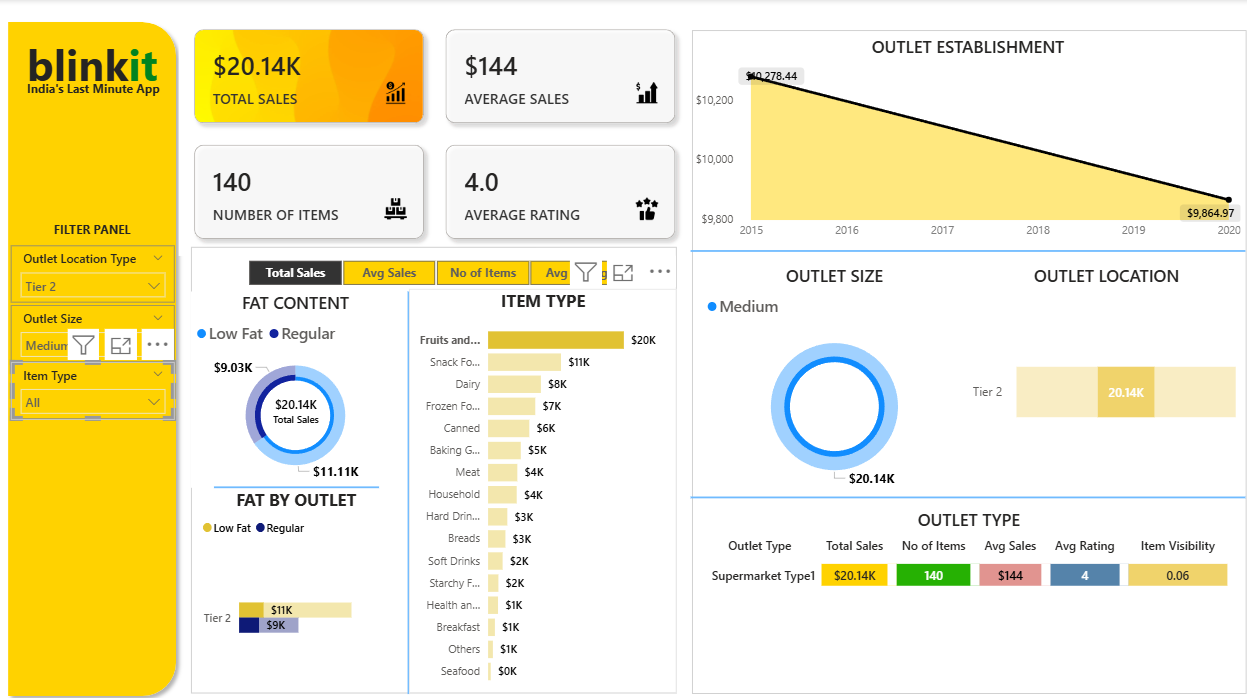

Layout of this report page (visuals, bound fields, positions):
{"tool":"powerbi","page":{"name":"Page 1","canvas":[1400,800],"ordinal":0},"visuals":[{"type":"shape","box":[0,15.9,205,768.5],"z":0},{"type":"textbox","box":[7.9,34.4,190.5,79.4],"z":1000},{"type":"textbox","box":[15.9,86,174.6,27.8],"z":2000},{"type":"cardVisual","fields":{"Data":["BlinkIT Grocery Data.Total Sales","BlinkIT Grocery Data.Avg Sales","BlinkIT Grocery Data.No of Items","BlinkIT Grocery Data.Avg Rating"]},"box":[198.4,15.9,570.1,269.8],"z":3000},{"type":"shape","box":[213,276.5,541,497.4],"z":4000},{"type":"donutChart","title":"FAT CONTENT","fields":{"Y":["BlinkIT Grocery Data.Total Sales"],"Category":["BlinkIT Grocery Data.Item Fat Content"]},"box":[213,325.4,232.8,218.3],"z":5000},{"type":"slicer","fields":{"Values":["Metrics.Metrics"]},"box":[251.3,285.7,465.6,39.7],"z":6000},{"type":"cardVisual","fields":{"Data":["BlinkIT Grocery Data.Total Sales"]},"box":[284.4,425.9,89.9,59.5],"z":7000},{"type":"clusteredBarChart","title":"FAT BY OUTLET","fields":{"Y":["BlinkIT Grocery Data.Total Sales"],"Category":["BlinkIT Grocery Data.Outlet Location Type"],"Series":["BlinkIT Grocery Data.Item Fat Content"]},"box":[220.9,543.7,219.6,230.2],"z":8000},{"type":"shape","box":[238.1,533.1,183.9,19.8],"z":9000},{"type":"shape","box":[445.8,325.4,17.2,448.4],"z":10000},{"type":"barChart","title":"ITEM TYPE","fields":{"Y":["BlinkIT Grocery Data.Total Sales"],"Category":["BlinkIT Grocery Data.Item Type"]},"box":[455,322.8,298.9,451.1],"z":11000},{"type":"shape","box":[769.8,34.4,617.7,739.4],"z":12000},{"type":"lineChart","title":"OUTLET ESTABLISHMENT","fields":{"Y":["BlinkIT Grocery Data.Total Sales"],"Category":["BlinkIT Grocery Data.Outlet Establishment Year"]},"box":[768.5,41,617.7,235.5],"z":13000},{"type":"shape","box":[768.5,276.5,617.7,9.3],"z":14000},{"type":"donutChart","title":"OUTLET SIZE","fields":{"Y":["BlinkIT Grocery Data.Total Sales"],"Category":["BlinkIT Grocery Data.Outlet Size"]},"box":[781.8,295,296.3,259.3],"z":15000},{"type":"funnel","title":"OUTLET LOCATION","fields":{"Y":["Sum(BlinkIT Grocery Data.Sales)"],"Category":["BlinkIT Grocery Data.Outlet Location Type"]},"box":[1078,295,308.2,259.3],"z":16000},{"type":"shape","box":[768.5,550.3,617.7,9.3],"z":17000},{"type":"pivotTable","title":"OUTLET TYPE","fields":{"Rows":["BlinkIT Grocery Data.Outlet Type"],"Values":["BlinkIT Grocery Data.Total Sales","BlinkIT Grocery Data.No of Items","BlinkIT Grocery Data.Avg Sales","BlinkIT Grocery Data.Avg Rating","Avg(BlinkIT Grocery Data.Item Visibility)"]},"box":[783.1,567.5,592.6,203.7],"z":18000},{"type":"slicer","fields":{"Values":["BlinkIT Grocery Data.Outlet Location Type"]},"box":[11.9,273.8,182.5,63.5],"z":19000},{"type":"slicer","fields":{"Values":["BlinkIT Grocery Data.Outlet Size"]},"box":[11.9,341.3,182.5,63.5],"z":20000},{"type":"slicer","fields":{"Values":["BlinkIT Grocery Data.Item Type"]},"box":[11.9,404.8,182.5,63.5],"z":21000},{"type":"textbox","box":[50.3,243.4,105.8,30.4],"z":22000},{"type":"textbox","box":[43.7,742.1,112.4,31.7],"z":23000}]}

Visuals, with their boxes in screenshot pixels (x1, y1, x2, y2), scaled from the page's 1400x800 canvas onto the 1247x698 screenshot:
shape: select_region(0, 14, 183, 684)
textbox: select_region(7, 30, 177, 99)
textbox: select_region(14, 75, 170, 99)
cardVisual - BlinkIT Grocery Data.Total Sales x BlinkIT Grocery Data.Avg Sales: select_region(177, 14, 685, 249)
shape: select_region(190, 241, 672, 675)
"FAT CONTENT" donutChart: select_region(190, 284, 397, 474)
slicer - Metrics.Metrics: select_region(224, 249, 639, 284)
cardVisual - BlinkIT Grocery Data.Total Sales: select_region(253, 372, 333, 424)
"FAT BY OUTLET" clusteredBarChart: select_region(197, 474, 392, 675)
shape: select_region(212, 465, 376, 482)
shape: select_region(397, 284, 412, 675)
"ITEM TYPE" barChart: select_region(405, 282, 672, 675)
shape: select_region(686, 30, 1236, 675)
"OUTLET ESTABLISHMENT" lineChart: select_region(685, 36, 1235, 241)
shape: select_region(685, 241, 1235, 249)
"OUTLET SIZE" donutChart: select_region(696, 257, 960, 484)
"OUTLET LOCATION" funnel: select_region(960, 257, 1235, 484)
shape: select_region(685, 480, 1235, 488)
"OUTLET TYPE" pivotTable: select_region(698, 495, 1225, 673)
slicer - BlinkIT Grocery Data.Outlet Location Type: select_region(11, 239, 173, 294)
slicer - BlinkIT Grocery Data.Outlet Size: select_region(11, 298, 173, 353)
slicer - BlinkIT Grocery Data.Item Type: select_region(11, 353, 173, 409)
textbox: select_region(45, 212, 139, 239)
textbox: select_region(39, 647, 139, 675)
